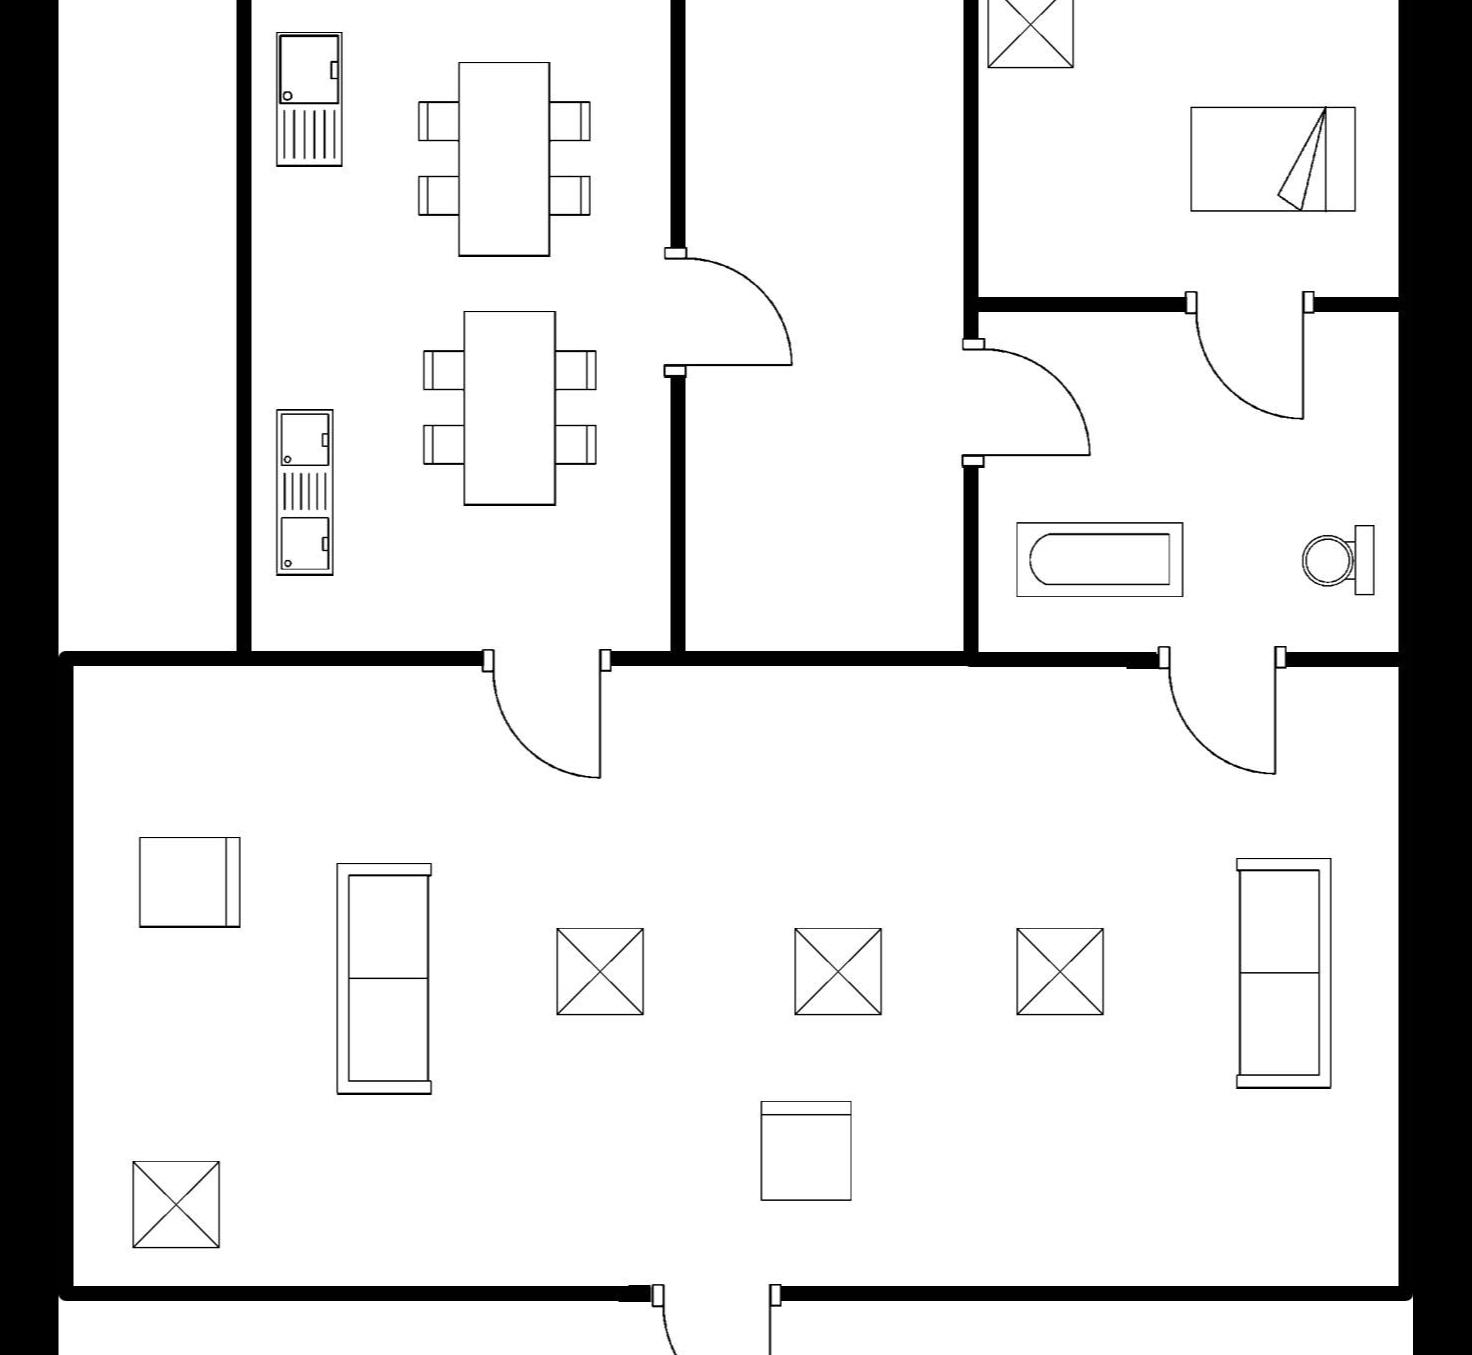sink: (265, 397, 346, 588)
